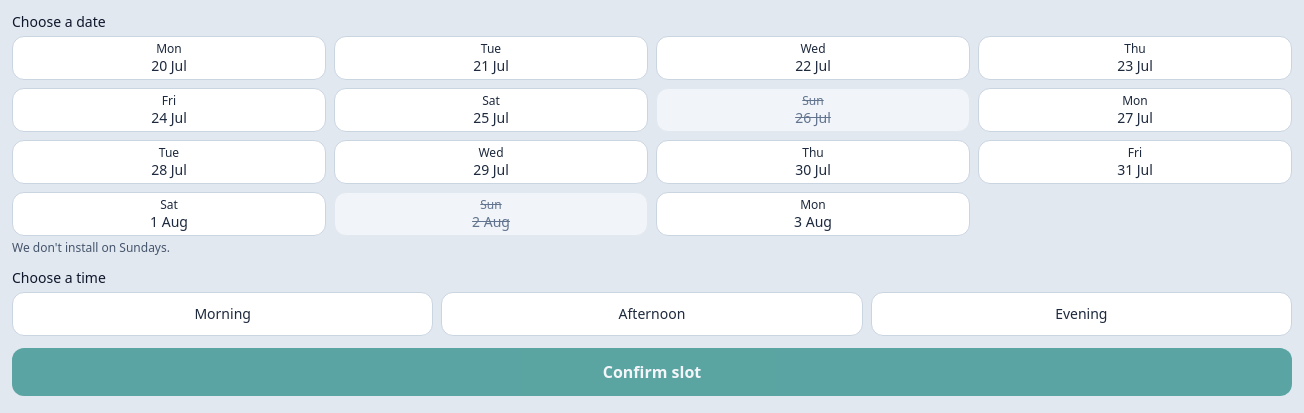
Test: SlotPicker › needs both a date and a time before it can confirm
This screenshot has width=1304, height=413.
Expected: the button with test id "date-2026-07-20" is shown, [12,36,326,80]
Expected: the button "Confirm slot" is disabled, [12,348,1292,396]
Click the button with test id "date-2026-07-22" at (813, 58), box [656,36,970,80]
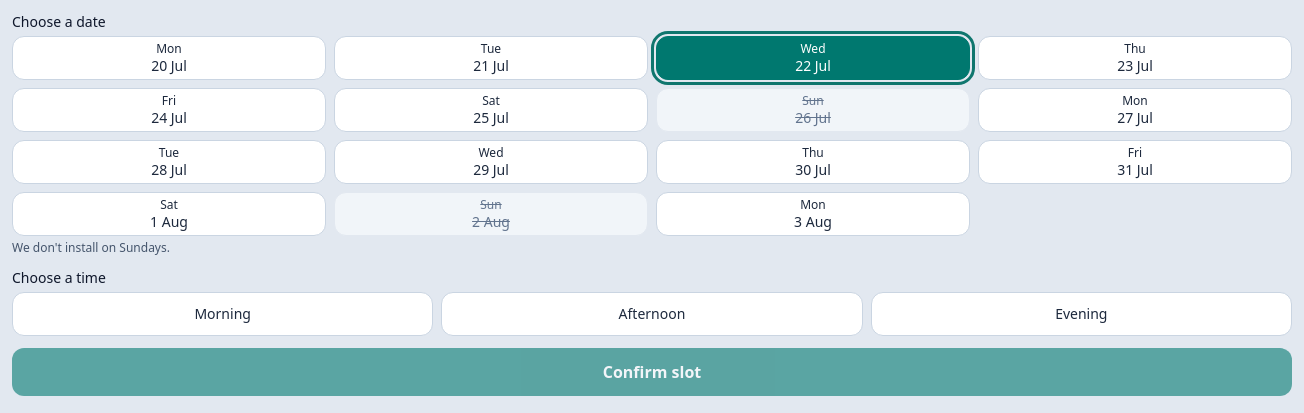
Expected: the button "Confirm slot" is disabled, [12,348,1292,396]
Click the button "Afternoon" at (652, 314), box [441,292,863,336]
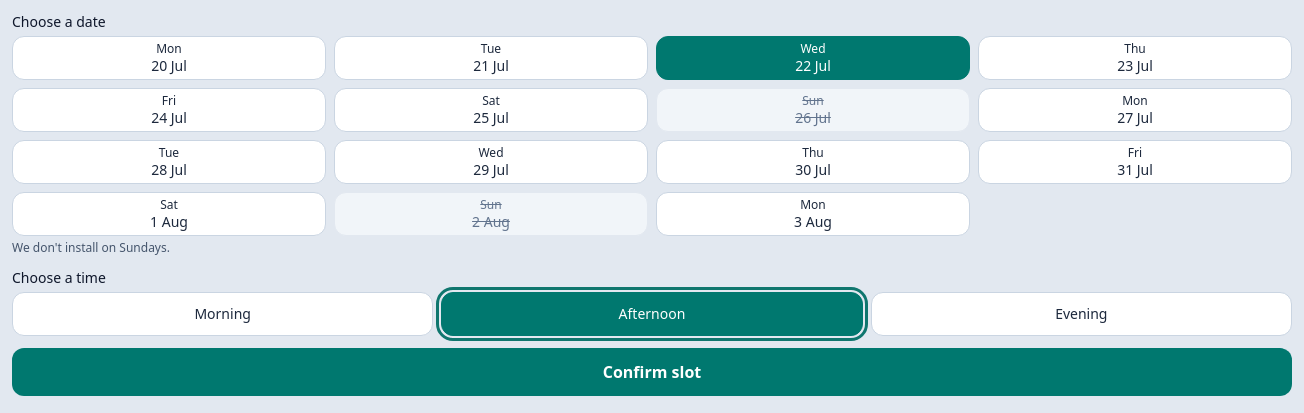
Expected: the button "Confirm slot" is enabled, [12,348,1292,396]
